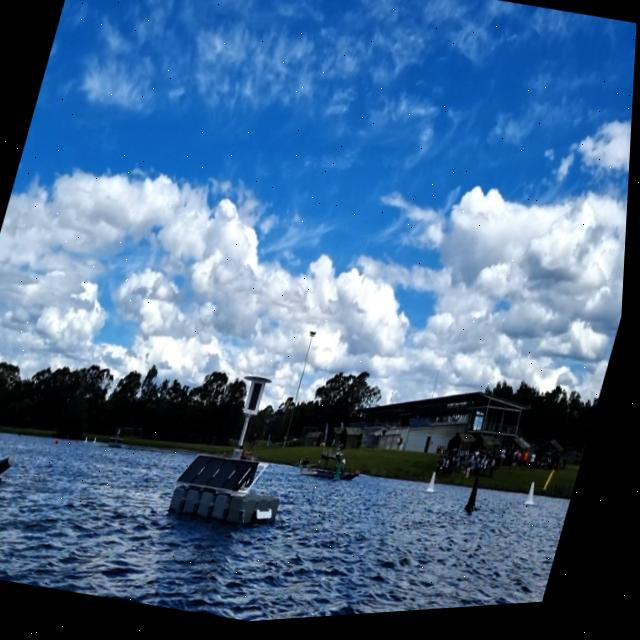led: (249, 383, 269, 418)
